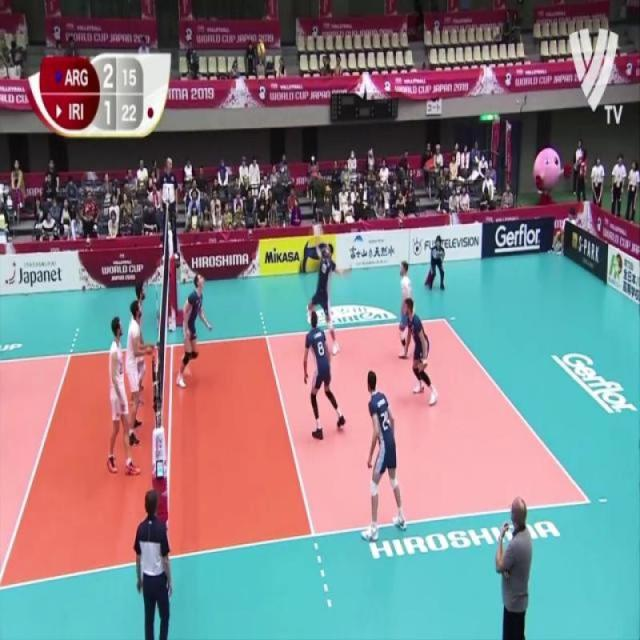volleyball: (301, 237, 332, 272), (257, 44, 267, 57)
